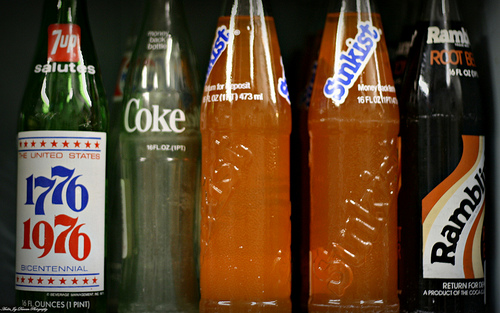Rec_Glass: (300, 1, 403, 312), (9, 1, 110, 313), (199, 1, 294, 312), (404, 1, 495, 309), (108, 1, 198, 312)
